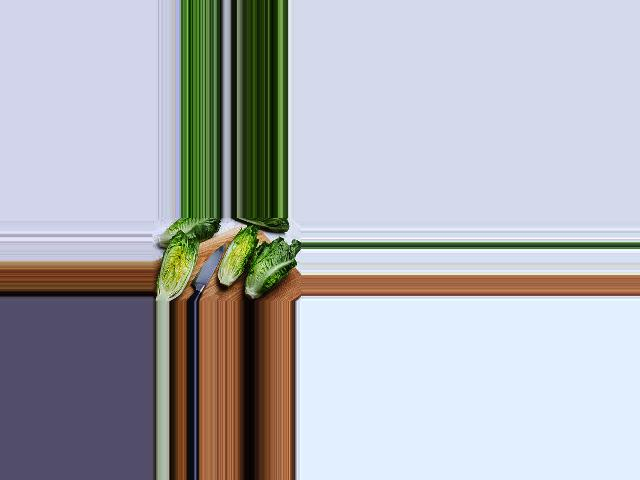lettuce: (158, 220, 219, 247)
